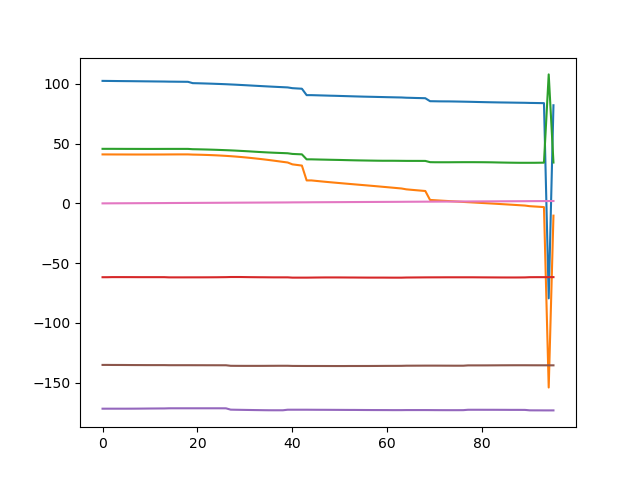Too_Slow: (1, 2, 640, 479)
